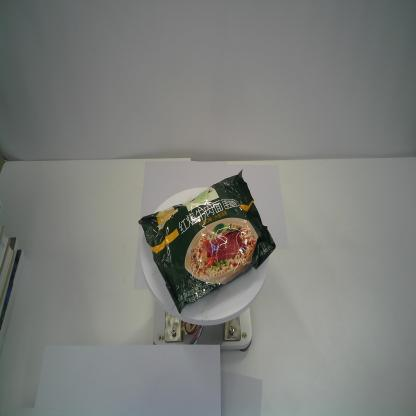Instant Noodles: (137, 167, 276, 316)
